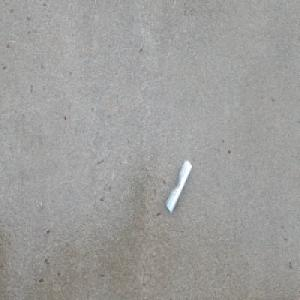ClampPart: (164, 158, 192, 213)
